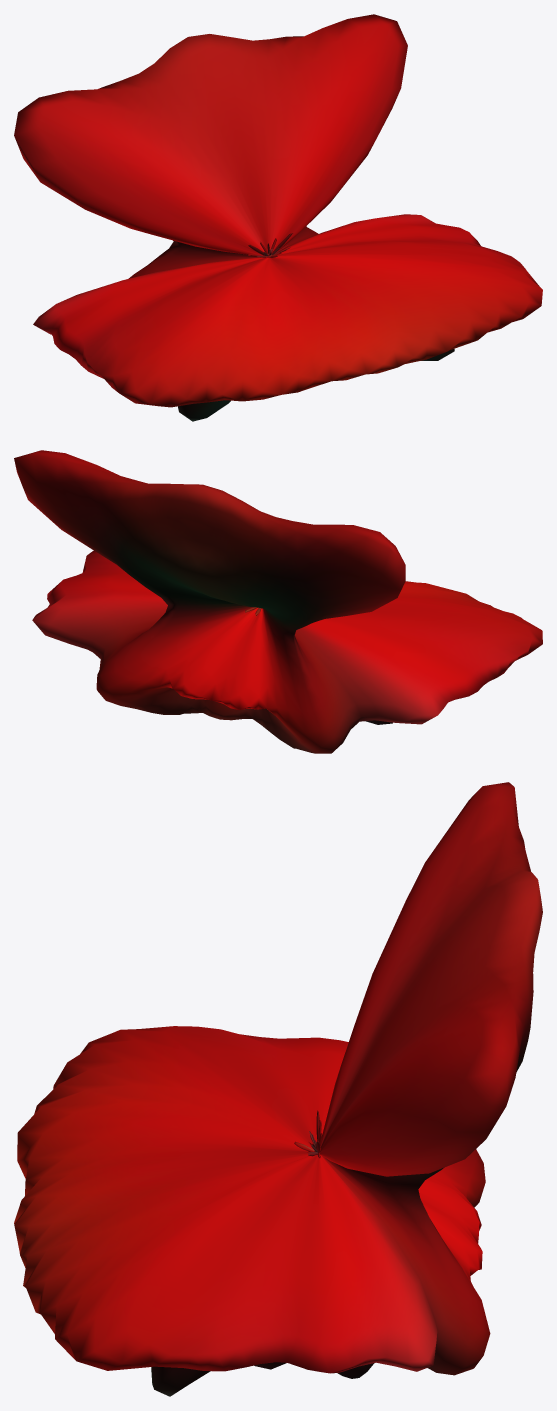
File: SheenChair_256B_sh.glb
3 views of the same model, one above another, from view 1: azimuth 30°, elevation 25°; view 2: azimuth 150°, elevation 25°; view 3: azimuth 270°, elevation 25° (orthographic). The views are drawn at different scales.
Size of the model in its own units: 2.11 by 1.29 by 1.45.
